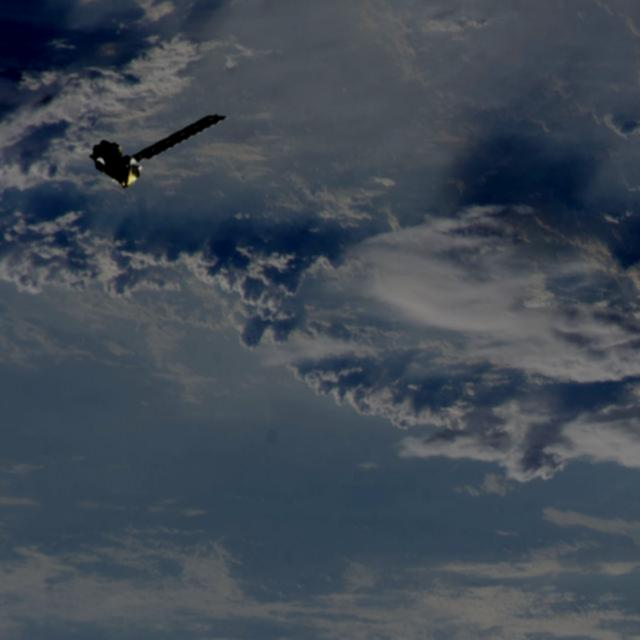satellite: (92, 100, 236, 194)
